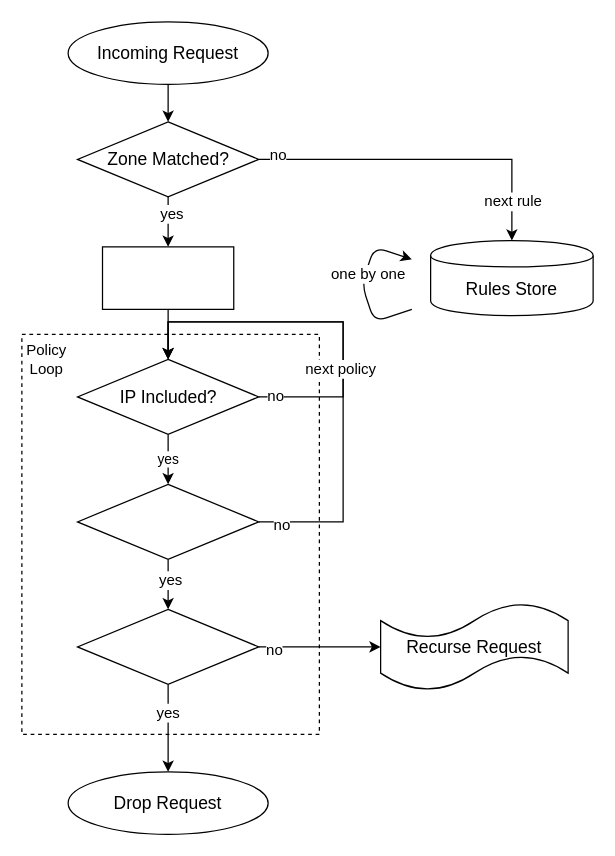
The diagram is 615 pixels wide and 856 high, and some of its shapes have lost their labels. Here are the shapes that lost their labels. From the top down, the box of each, then its label:
(101, 246, 234, 309): Parse Request
(76, 483, 259, 559): QTYPE Matched?
(76, 608, 259, 684): Should Block?
